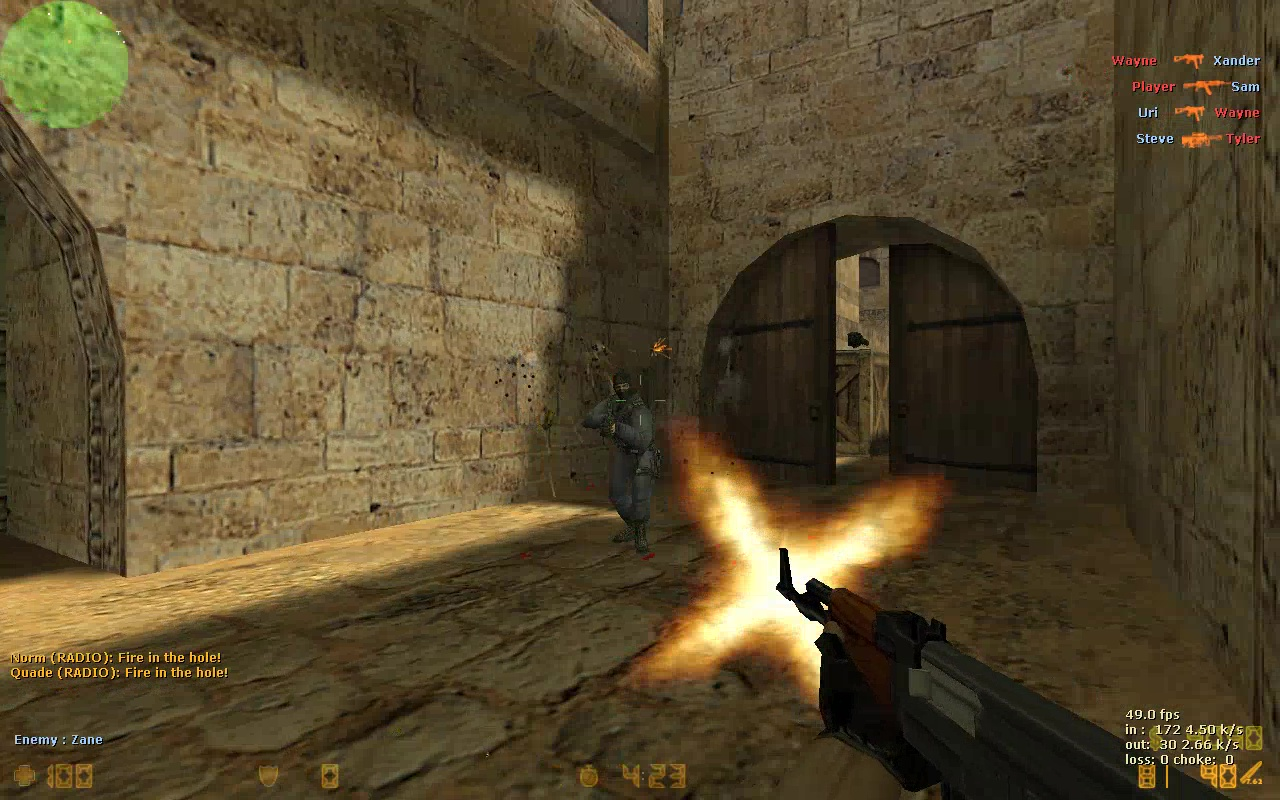ct: (581, 370, 660, 557)
